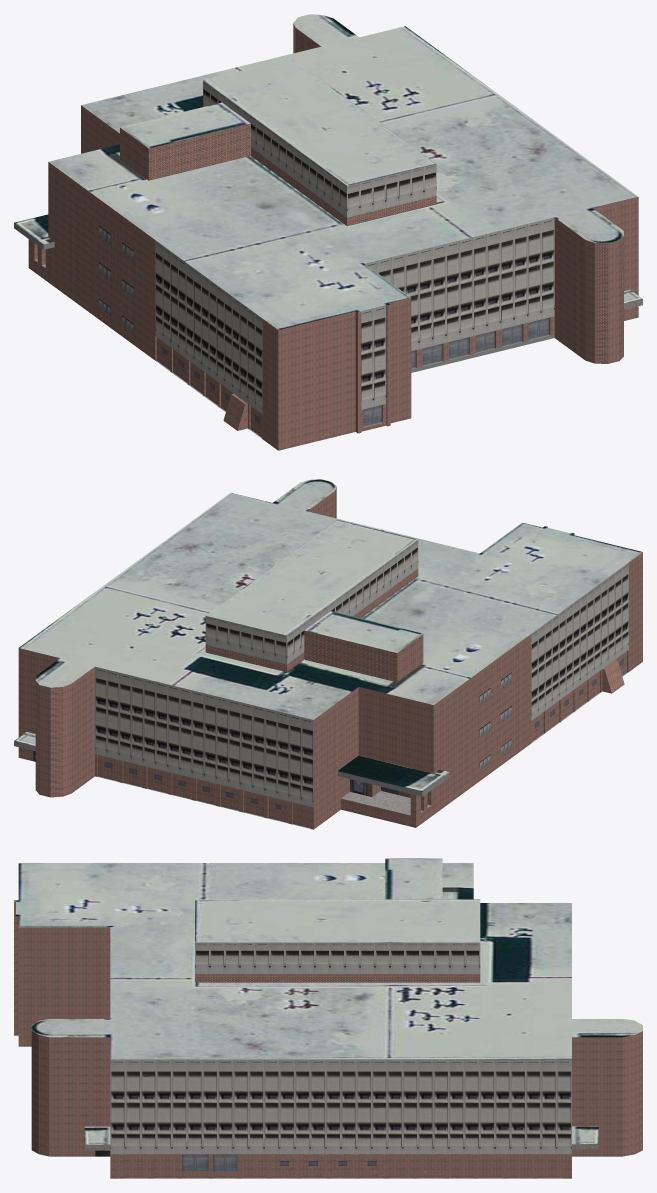
Rendered from POTR.fbx.
3 views of the same model, one above another, from view 1: azimuth 30°, elevation 25°; view 2: azimuth 150°, elevation 25°; view 3: azimuth 270°, elevation 25° (orthographic). The views are drawn at different scales.
Visible parts, largest first — view 1: Box01_1, Box02_1, Box03_1, Box06_1; view 2: Box01_1, Box02_1, Box03_1, Box06_1; view 3: Box01_1, Box02_1, Box03_1, Box04_1, Box05_1.
Part boxes in pixels (left/top/right/bottom): Box01_1: left=28, top=14, right=638, bottom=450; Box02_1: left=203, top=58, right=436, bottom=226; Box03_1: left=120, top=102, right=250, bottom=180; Box06_1: left=14, top=214, right=54, bottom=249; Box01_1: left=18, top=479, right=642, bottom=829; Box02_1: left=205, top=519, right=418, bottom=672; Box03_1: left=304, top=611, right=423, bottom=682; Box06_1: left=337, top=755, right=449, bottom=796; Box01_1: left=14, top=863, right=642, bottom=1178; Box02_1: left=195, top=899, right=480, bottom=982; Box03_1: left=385, top=858, right=442, bottom=899; Box04_1: left=84, top=1126, right=110, bottom=1150; Box05_1: left=572, top=1126, right=598, bottom=1149.
Size of the model in its own units: 2020 by 744 by 2663.
